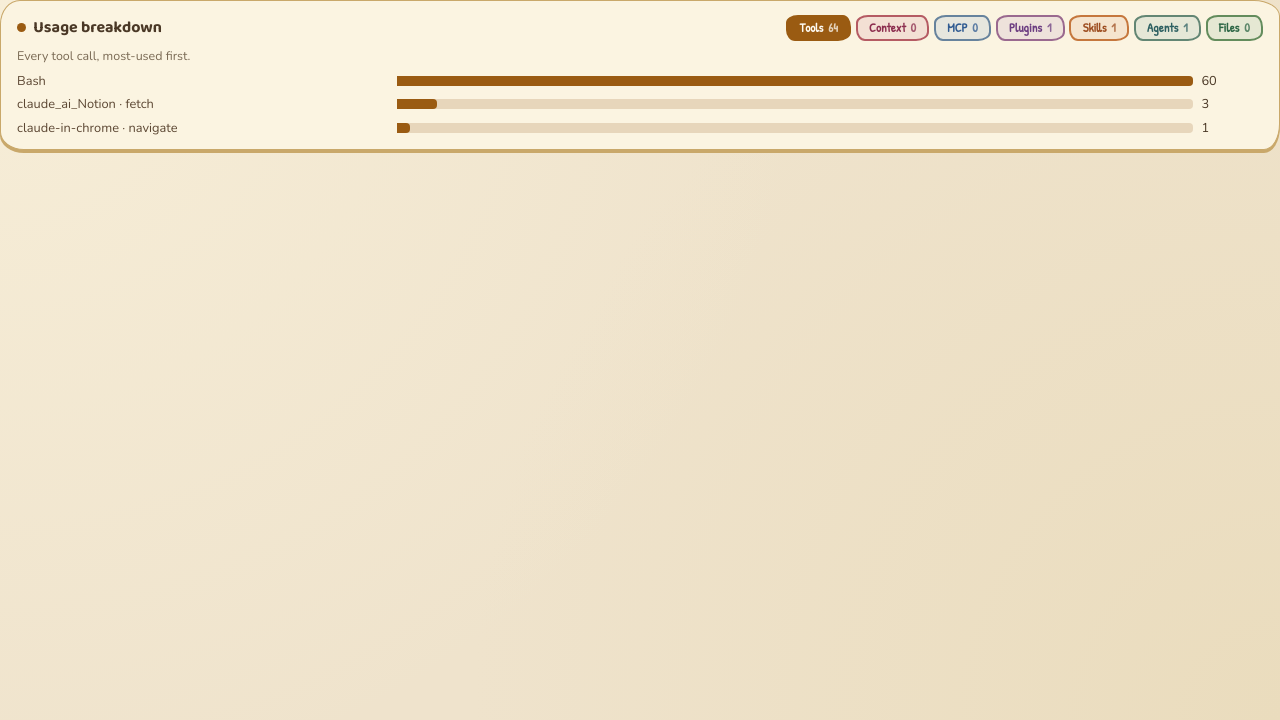
Test: <UsageCallout/> › accounts for subagents by type, and says how many turns were attributed
Step 1. Click the button "Agents 1" → x=1167, y=28, box [1134, 15, 1201, 41]
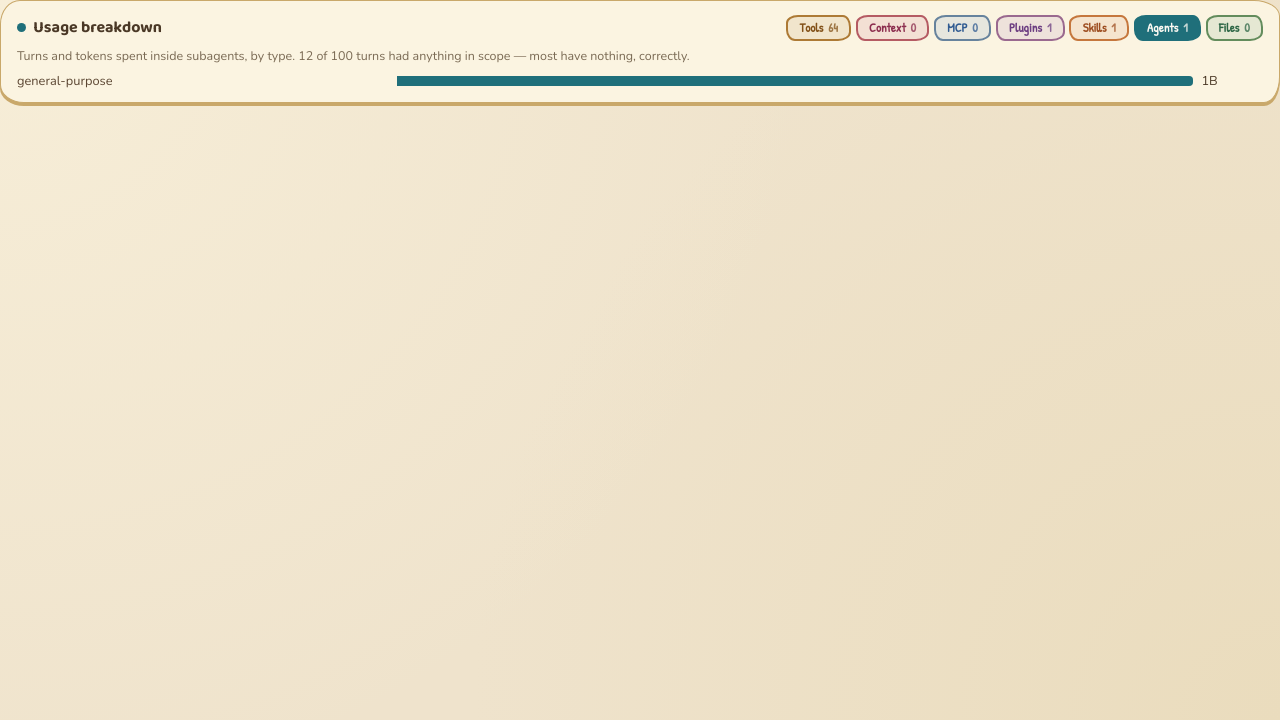
Expected: the text "general-purpose" is shown, [17, 72, 113, 90]
Expected: the text "12 of 100 turns had anything in scope" is shown, [17, 47, 690, 64]
